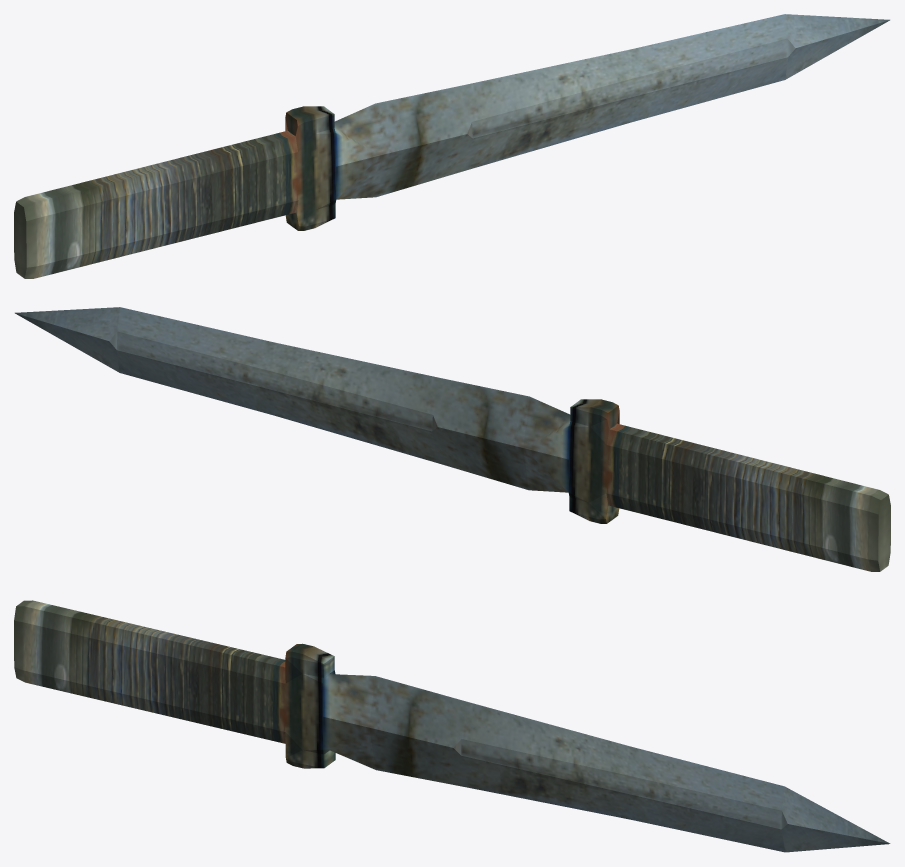
Rendered from irondagger.glb.
The picture shows the model from 3 angles, top to bottom: view 1: azimuth 30°, elevation 25°; view 2: azimuth 150°, elevation 25°; view 3: azimuth 330°, elevation 25°; orthographic projection.
Visible parts, largest first — view 1: Cube; view 2: Cube; view 3: Cube.
Boxes of the visible parts, box(x1,y1,x2,y2) form: Cube: box(14, 14, 889, 278); Cube: box(15, 307, 890, 571); Cube: box(14, 600, 890, 852).
Bounding box in the file's own units: 1.85 × 0.231 × 0.0498.
Materials: 1 (1 with a texture image).
